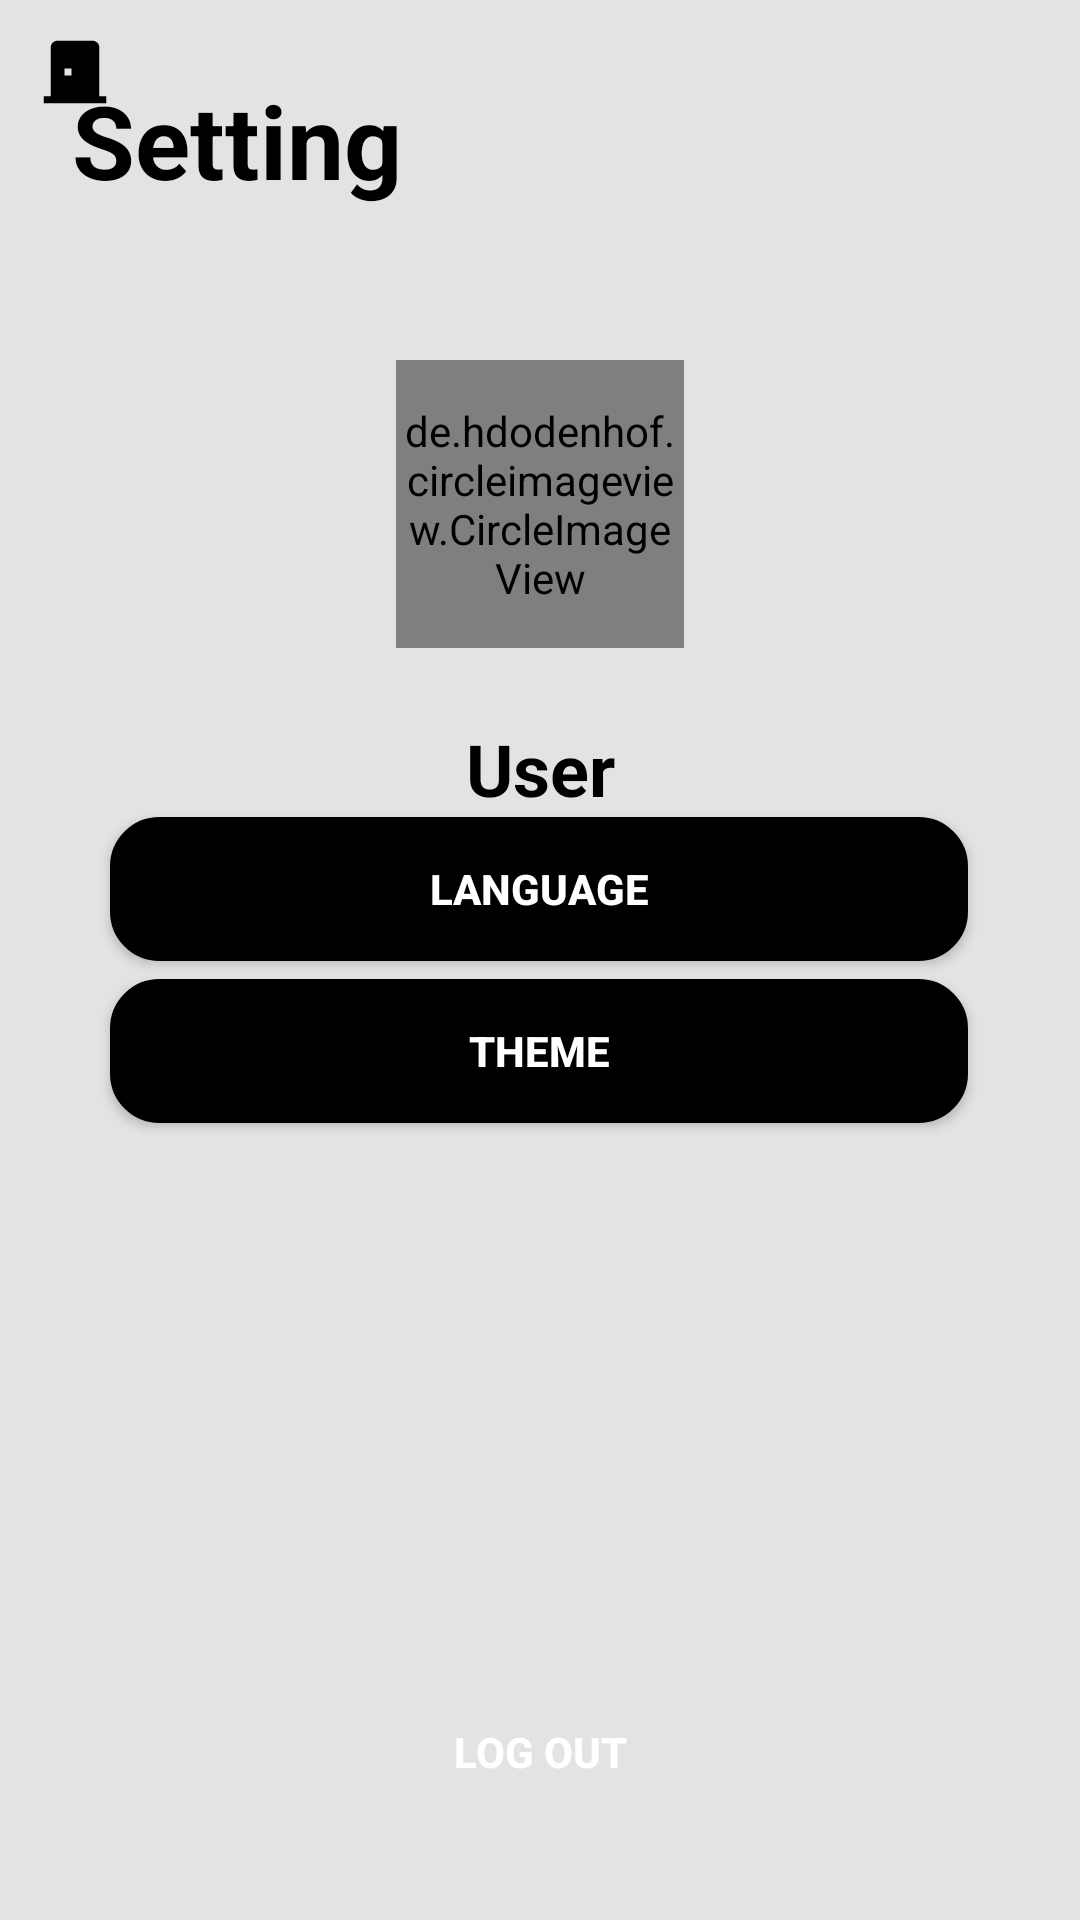

Point at icon controls on the screen. Image size 1080 x 1920, points as [x,y].
signout: [75,72]
